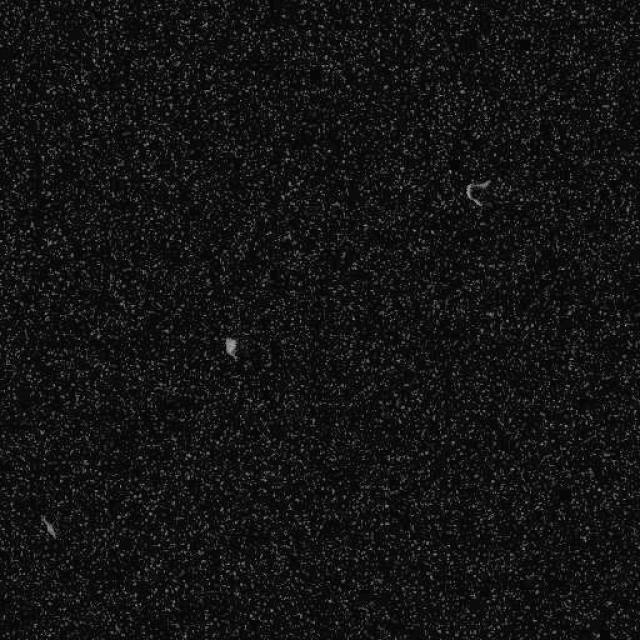D2: (465, 178, 491, 208), (38, 512, 58, 538), (222, 335, 238, 359)
